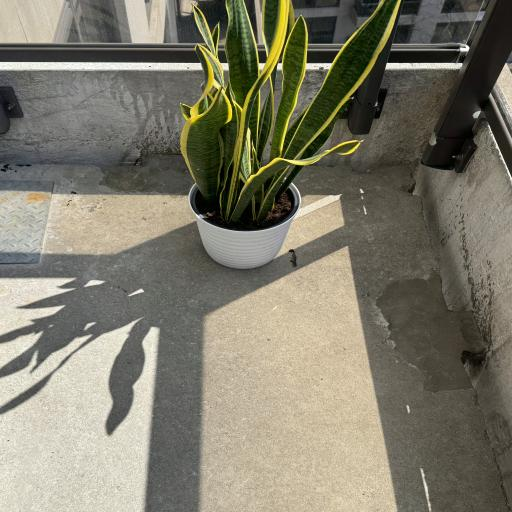Plant Pot: (188, 174, 303, 268)
